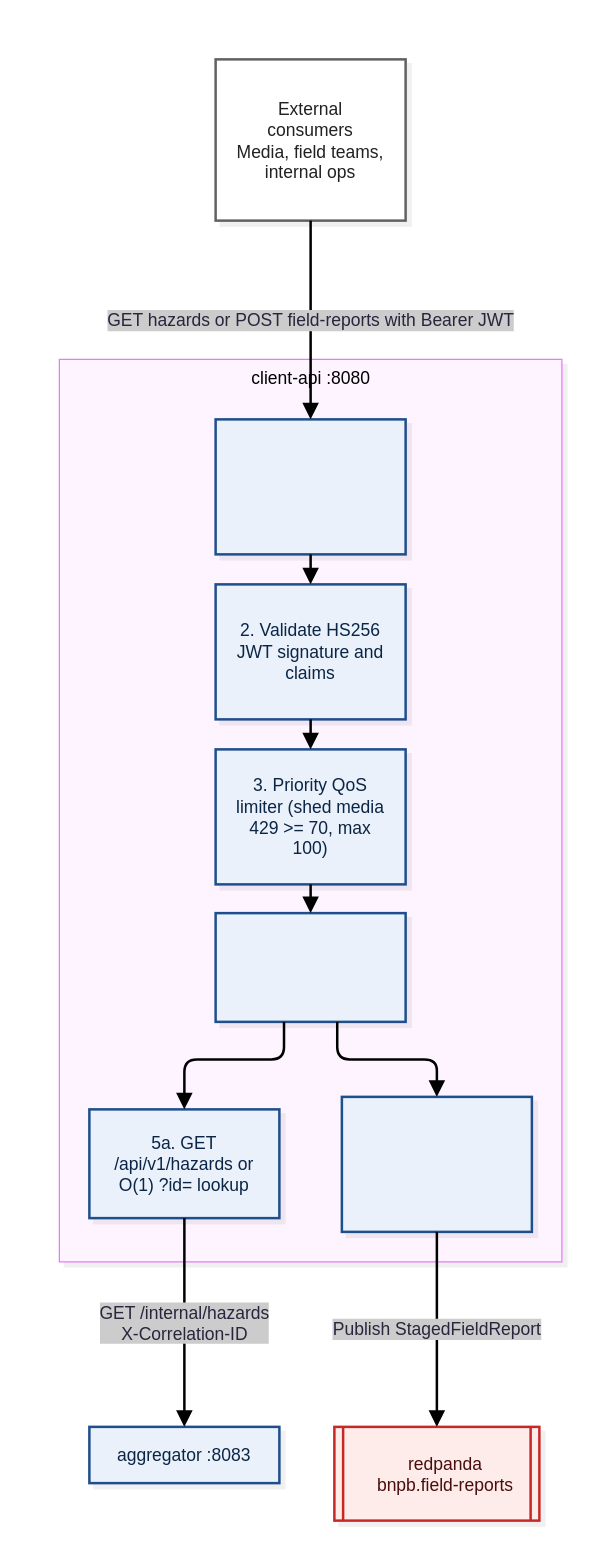
The diagram is 589 pixels wide and 1548 high, and some of its shapes have lost their labels. Each missing label, with the centre of its shape:
"1. Inject or preserve X-Correlation-ID + W3C traceparent" goes at (x=312, y=489).
"4. Enforce scope permissions (summary vs all)" goes at (x=312, y=969).
"5b. POST /api/v1/field-reports (Idempotency-Key + RequireAll)" goes at (x=439, y=1166).
